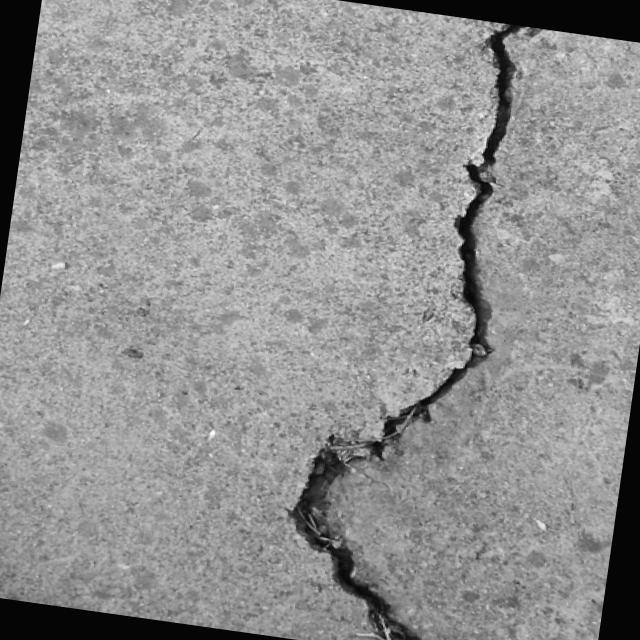crack: (266, 2, 549, 640)
